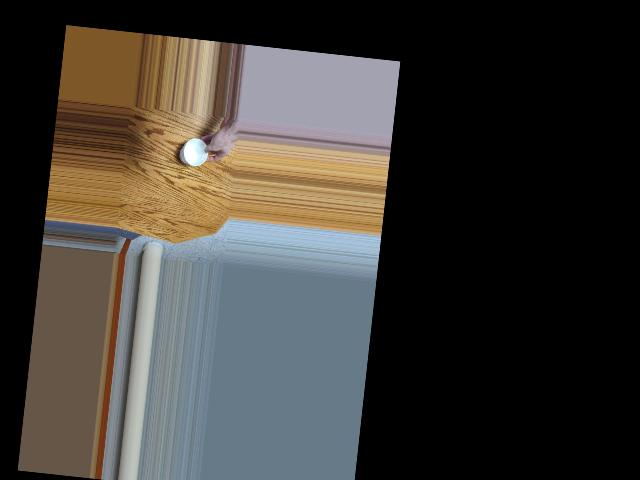cotage: (178, 132, 214, 172)
